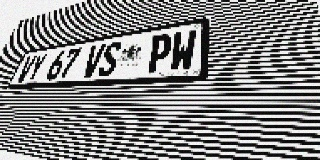6: (44, 50, 69, 80)
7: (57, 48, 82, 80)
P: (145, 33, 173, 74)
S: (96, 41, 123, 77)
V: (80, 44, 106, 78), (15, 55, 38, 82)
W: (168, 29, 197, 72)
Y: (25, 53, 48, 82)
